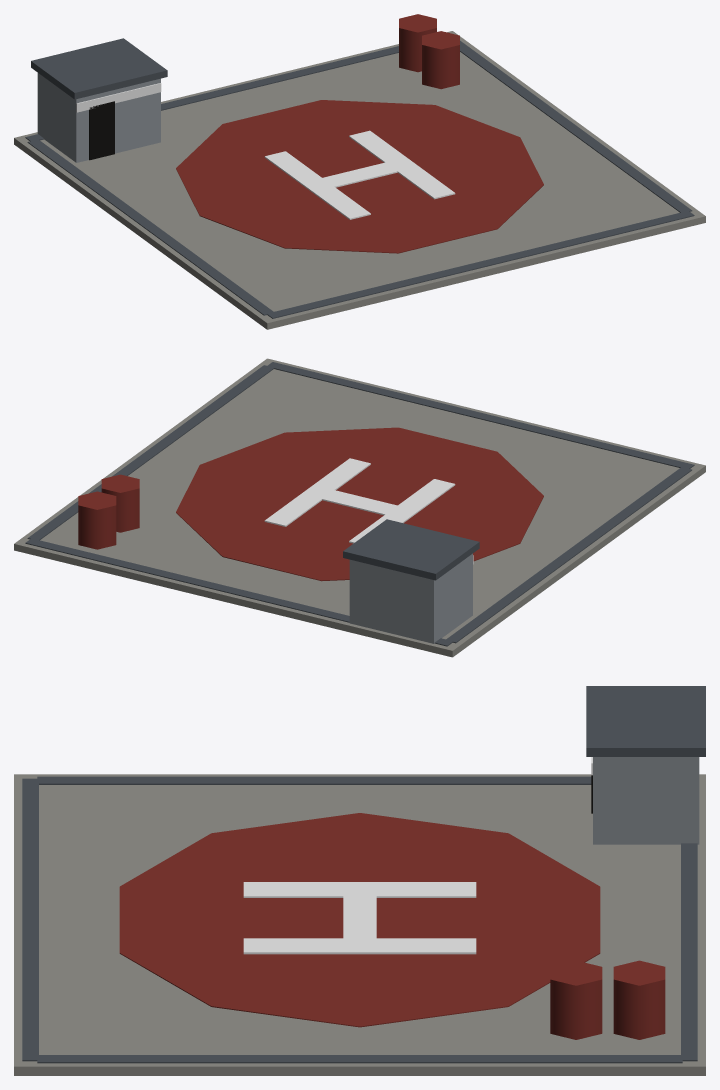
3 renders of one model, top to bottom at view 1: azimuth 30°, elevation 25°; view 2: azimuth 150°, elevation 25°; view 3: azimuth 270°, elevation 25°, orthographic. The views are drawn at different scales.
Visible parts, largest first — view 1: garde_building_helipad; view 2: garde_building_helipad; view 3: garde_building_helipad.
Boxes of the visible parts, x1=… form: garde_building_helipad: x1=14, y1=14, x2=705, y2=329; garde_building_helipad: x1=14, y1=358, x2=705, y2=657; garde_building_helipad: x1=14, y1=686, x2=705, y2=1075.
Size of the model in its own units: 20.8 by 3.6 by 20.8.
